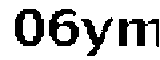0: (10, 6, 46, 50)
6: (48, 4, 82, 55)
m: (117, 14, 160, 49)
y: (80, 14, 116, 60)
